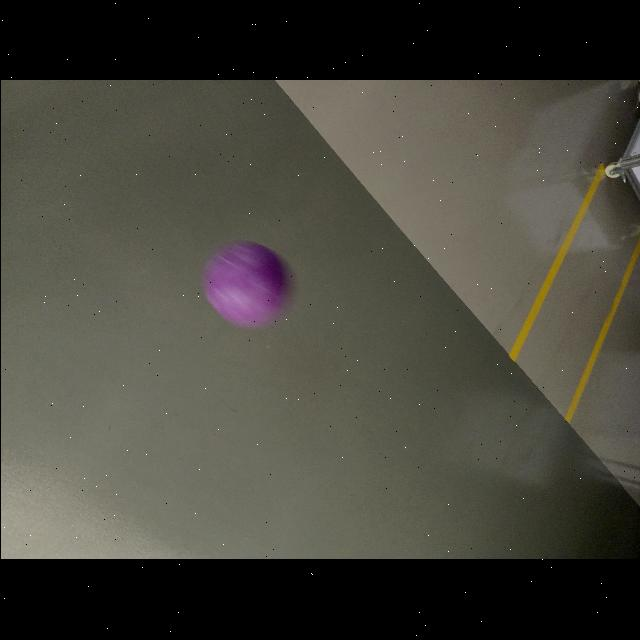P: (202, 242, 296, 330)
